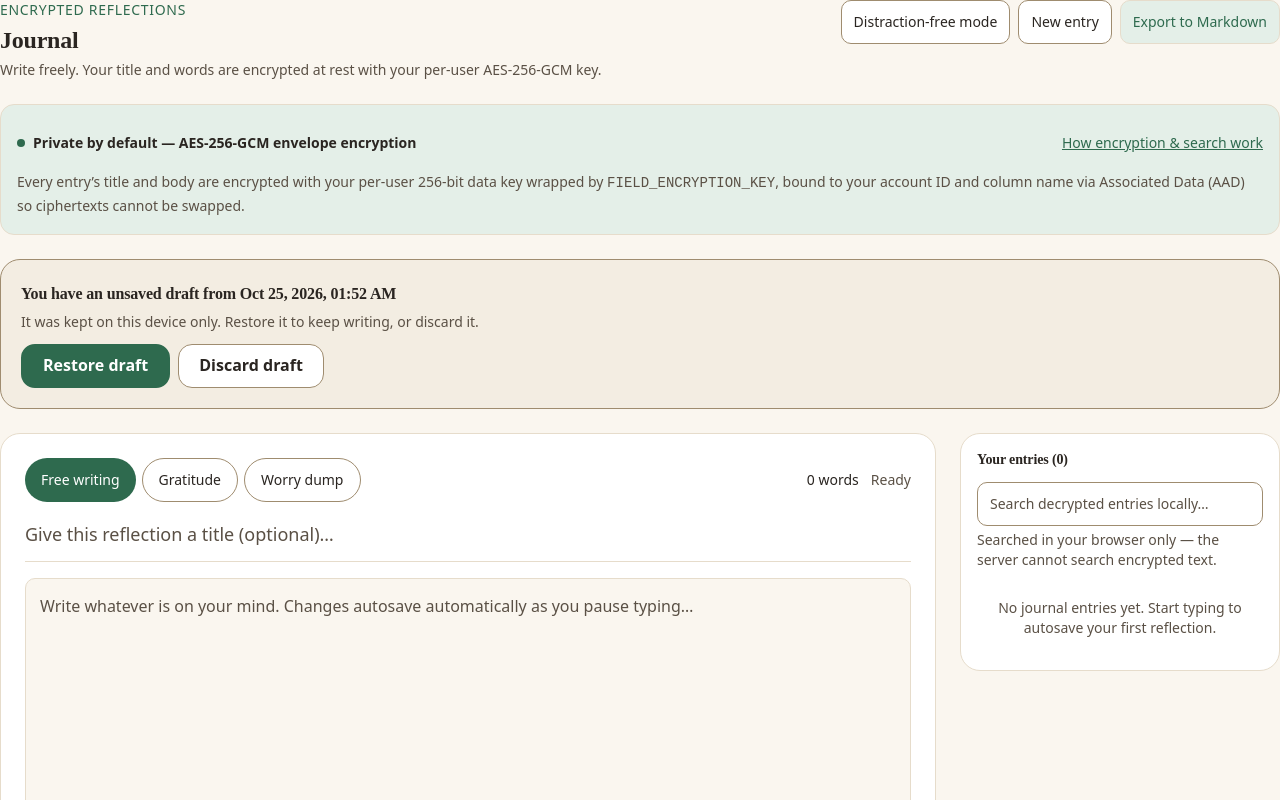
Test case: journal drafts offline › offers an earlier draft back instead of applying it, and can discard it
Check: the element with test id "journal-draft-restore" shows "You have an unsaved draft from", box [21,284,396,302]
Click the button "Discard draft": click(251, 366) [178,344,324,388]
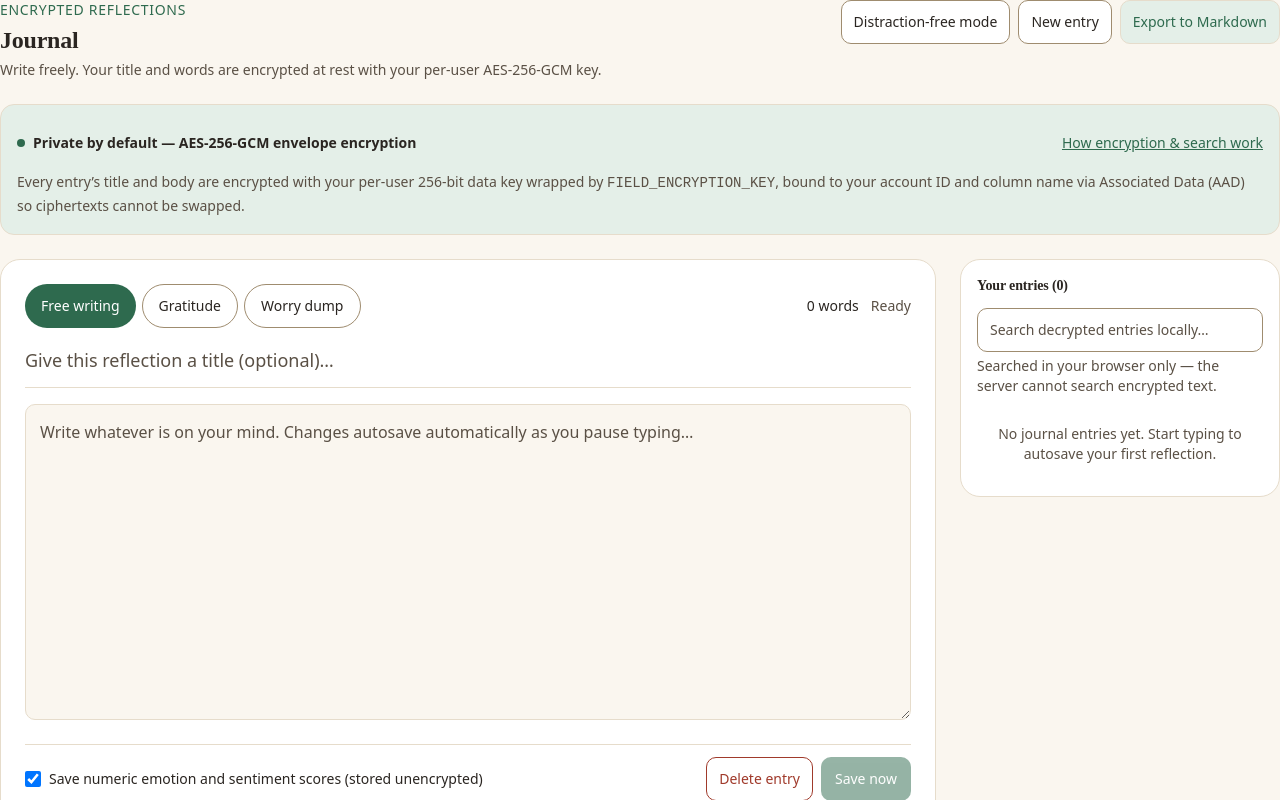
Check: the element with test id "journal-draft-restore" is gone
